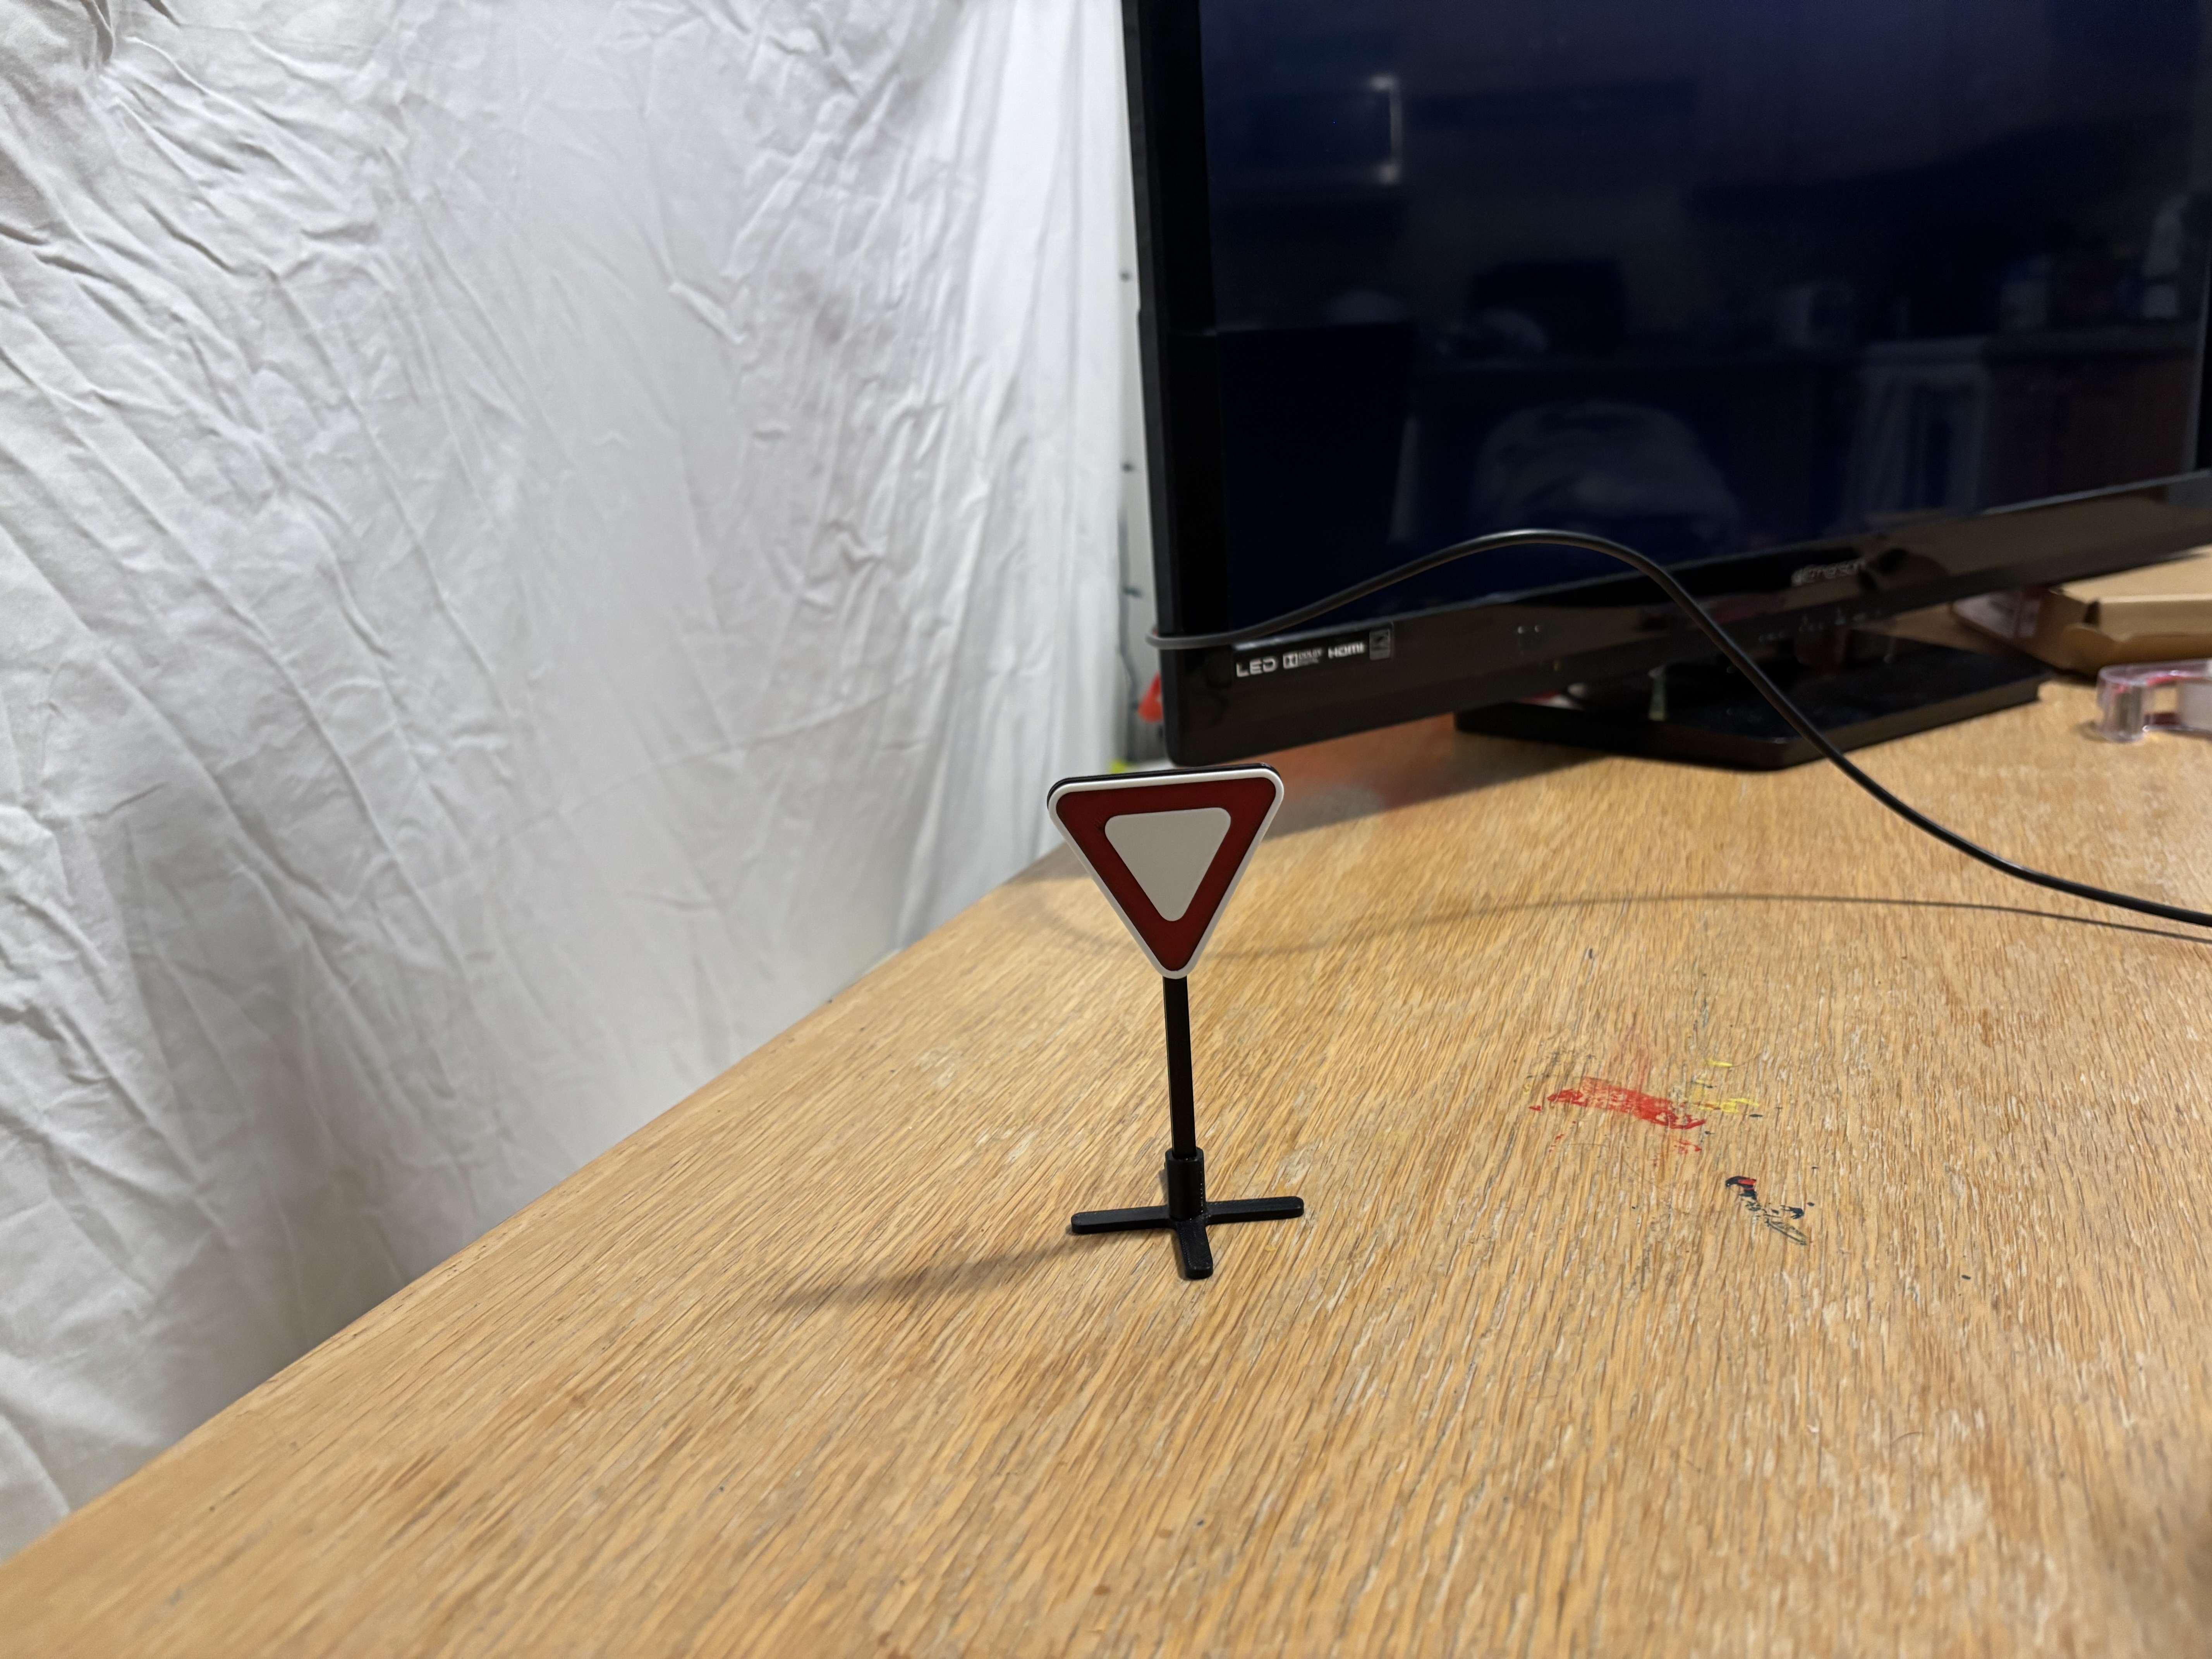sign_yield: (1029, 769, 1298, 972)
